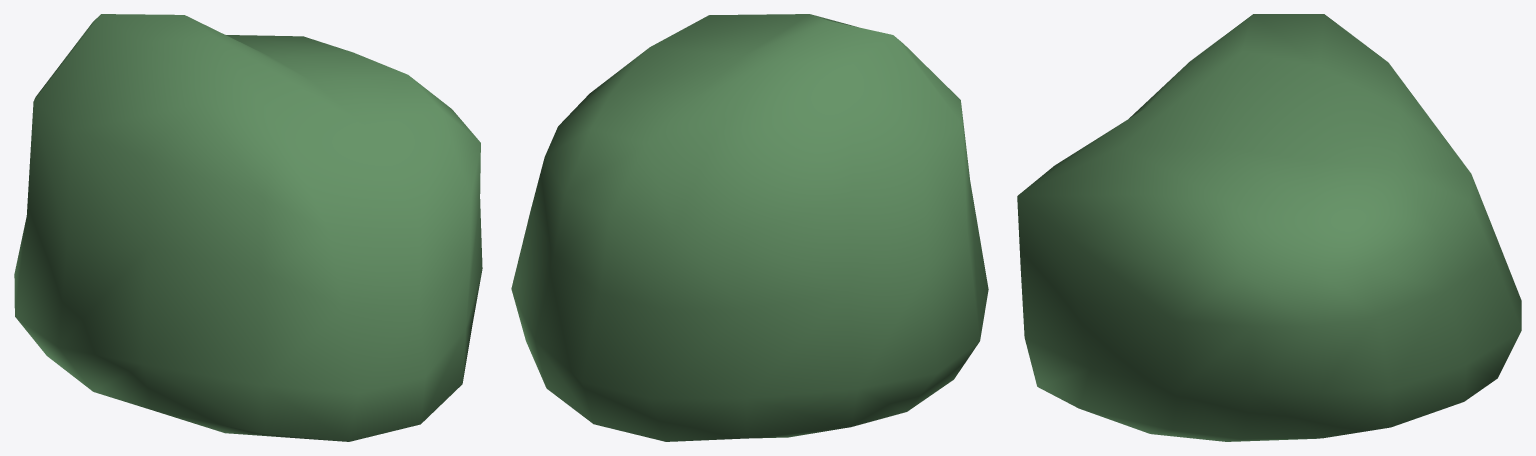
File: Bush_1.fbx
The picture shows the model from 3 angles, left to right: view 1: azimuth 30°, elevation 25°; view 2: azimuth 150°, elevation 25°; view 3: azimuth 270°, elevation 25°; orthographic projection. The views are drawn at different scales.
Visible parts, largest first — view 1: Bush_1; view 2: Bush_1; view 3: Bush_1.
Boxes of the visible parts, box(x1,y1,x2,y2) form: Bush_1: box(14, 14, 482, 441); Bush_1: box(511, 14, 988, 441); Bush_1: box(1017, 14, 1521, 441).
Size of the model in its own units: 3.17 by 2.82 by 3.76.
